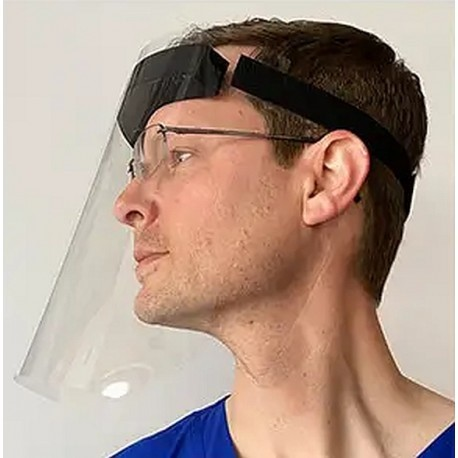face_no_mask: (114, 30, 372, 347)
